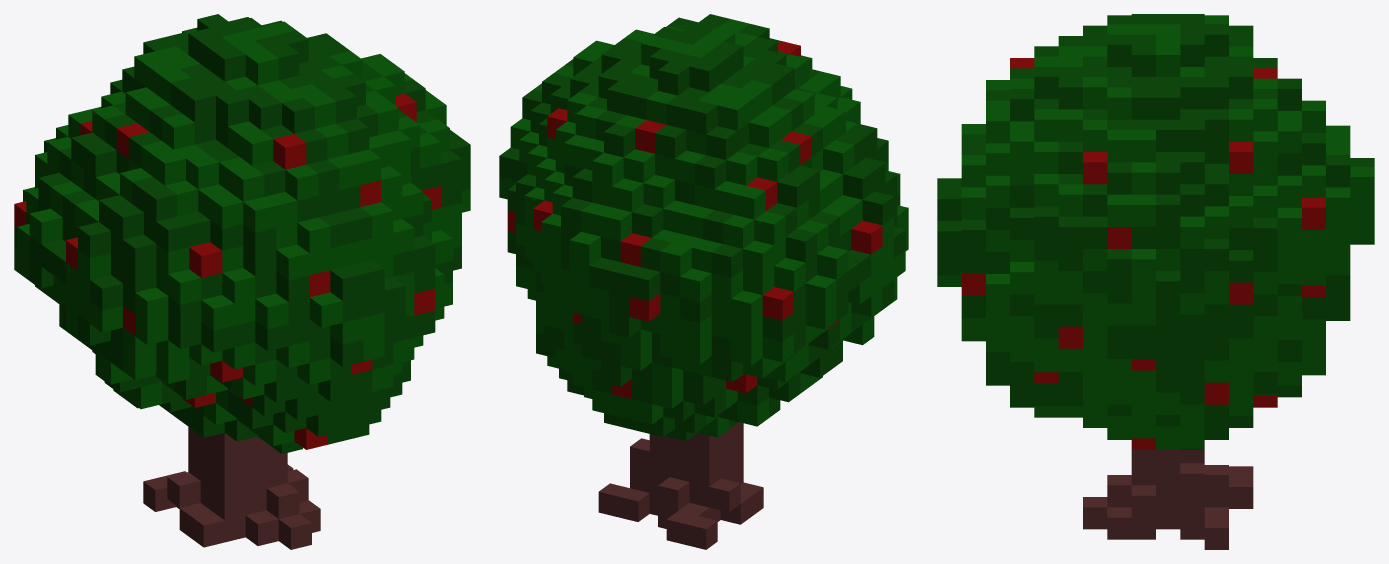
Rendered from tree1.obj.
3 views of the same model, side by side, from view 1: azimuth 30°, elevation 25°; view 2: azimuth 150°, elevation 25°; view 3: azimuth 270°, elevation 25° (orthographic). The views are drawn at different scales.
Size of the model in its own units: 18 by 22 by 18.
1 material, 1 textured.
